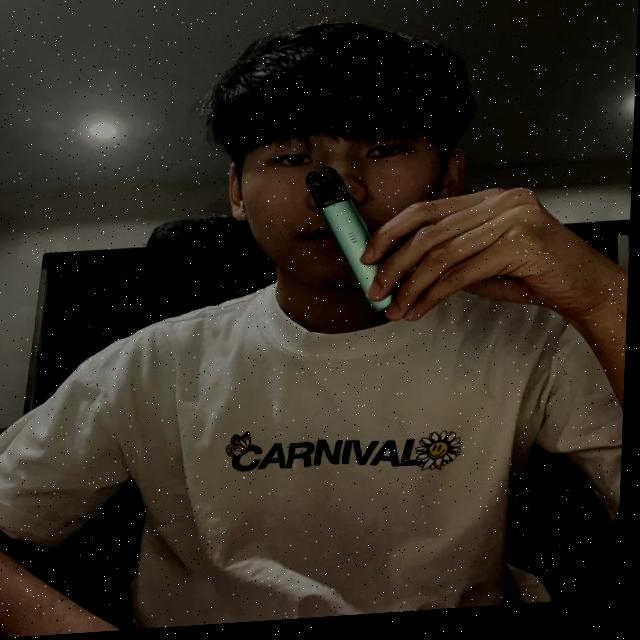vape: (302, 161, 401, 324)
